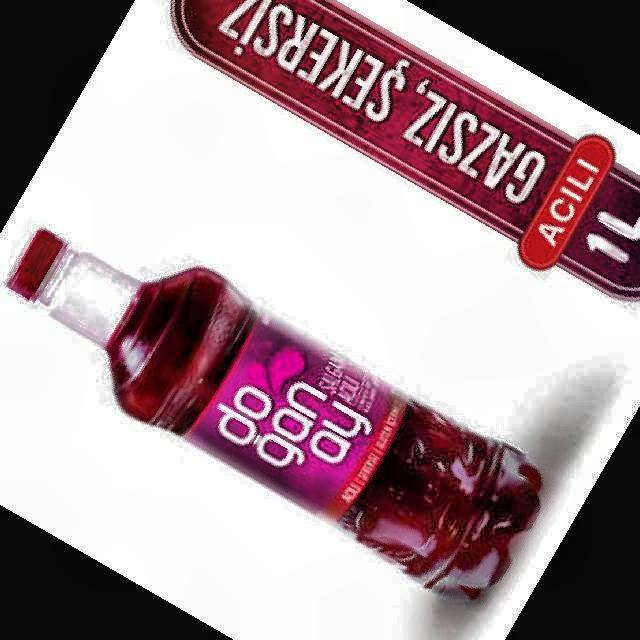plastic: (9, 231, 542, 598)
